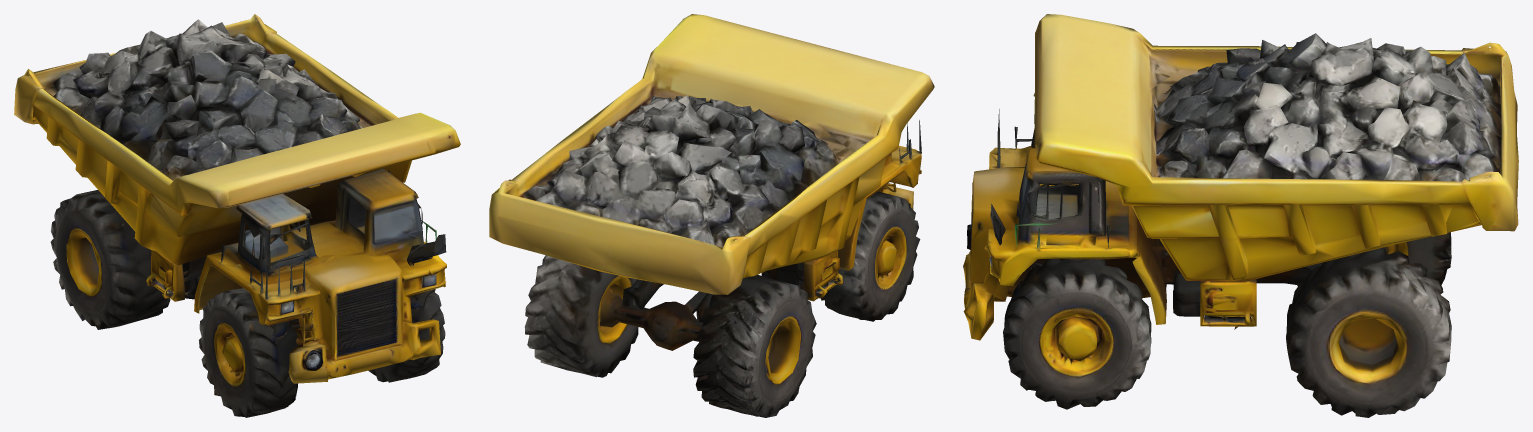
Rendered from qr_dumptruck.glb.
3 views of the same model, side by side, from view 1: azimuth 30°, elevation 25°; view 2: azimuth 150°, elevation 25°; view 3: azimuth 270°, elevation 25° (orthographic). The views are drawn at different scales.
Parts seen in each view (by area): view 1: tripo_node_8479066d-f07f-481a-b4b3-aa003c0714ba; view 2: tripo_node_8479066d-f07f-481a-b4b3-aa003c0714ba; view 3: tripo_node_8479066d-f07f-481a-b4b3-aa003c0714ba.
Part boxes in pixels (x1,y1,x2,y2): tripo_node_8479066d-f07f-481a-b4b3-aa003c0714ba: [14, 14, 460, 417]; tripo_node_8479066d-f07f-481a-b4b3-aa003c0714ba: [489, 14, 934, 417]; tripo_node_8479066d-f07f-481a-b4b3-aa003c0714ba: [963, 14, 1518, 417].
Size of the model in its own units: 0.5768 by 0.6138 by 0.9794.
1 material, 1 textured.
